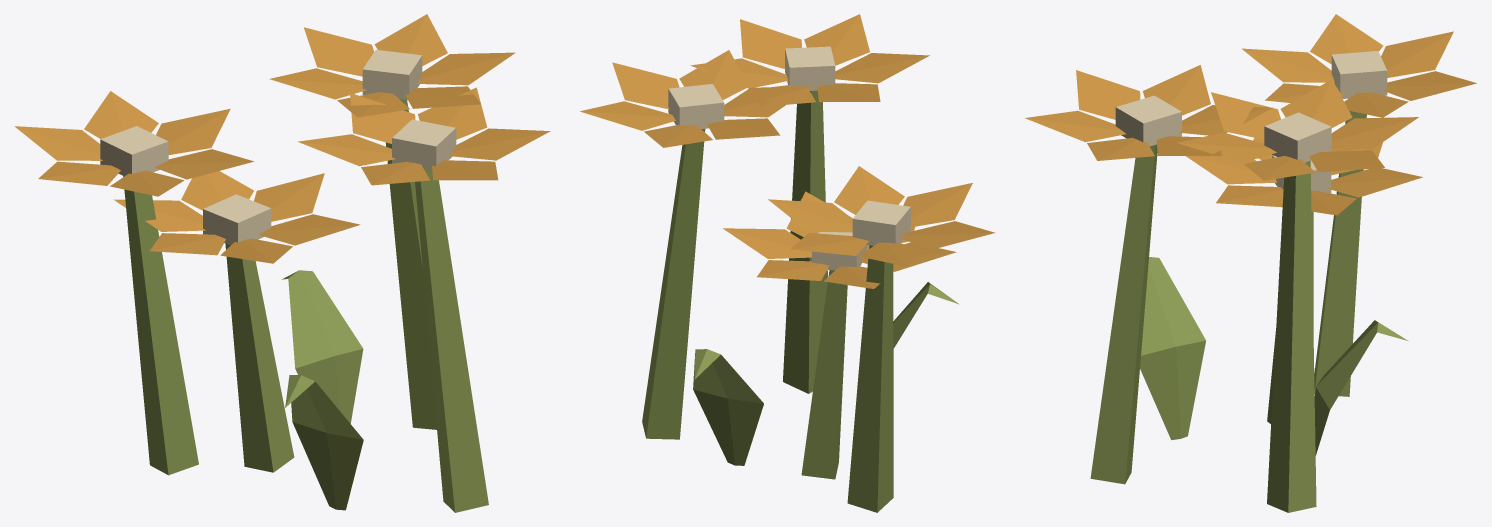
File: foliage_flower_drift_c.glb
3 renders of one model, left to right at view 1: azimuth 30°, elevation 25°; view 2: azimuth 150°, elevation 25°; view 3: azimuth 270°, elevation 25°, orthographic. The views are drawn at different scales.
Visible parts, largest first — view 1: foliage_flower_drift_c_cluster_material_00, foliage_flower_drift_c_cluster_material_01, foliage_flower_drift_c_cluster_material_02; view 2: foliage_flower_drift_c_cluster_material_00, foliage_flower_drift_c_cluster_material_01, foliage_flower_drift_c_cluster_material_02; view 3: foliage_flower_drift_c_cluster_material_00, foliage_flower_drift_c_cluster_material_01, foliage_flower_drift_c_cluster_material_02.
Part boxes in pixels (x1,y1,x2,y2): foliage_flower_drift_c_cluster_material_00: (123,99,488,512); foliage_flower_drift_c_cluster_material_01: (14,14,550,263); foliage_flower_drift_c_cluster_material_02: (100,49,456,245); foliage_flower_drift_c_cluster_material_00: (642,90,959,512); foliage_flower_drift_c_cluster_material_01: (580,14,995,288); foliage_flower_drift_c_cluster_material_02: (668,46,910,270); foliage_flower_drift_c_cluster_material_00: (1090,110,1408,512); foliage_flower_drift_c_cluster_material_01: (1025,14,1476,215); foliage_flower_drift_c_cluster_material_02: (1115,51,1387,193).
Size of the model in its own units: 0.24 by 0.1944 by 0.2173.
